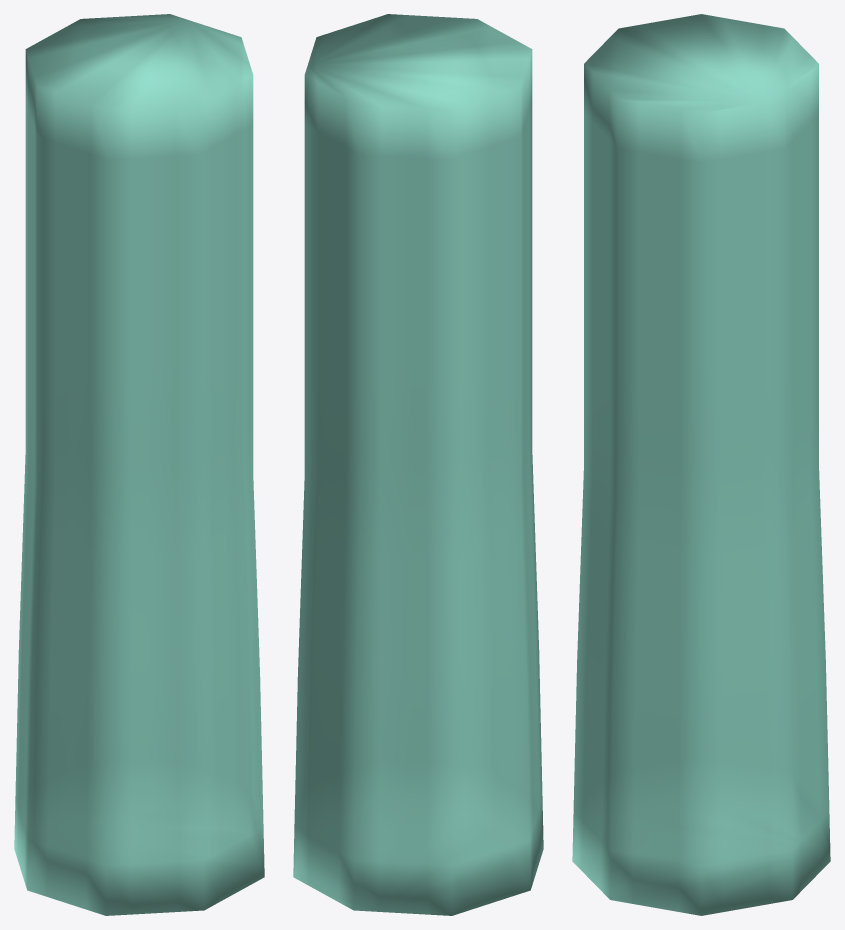
File: Geyser.fbx
3 views of the same model, side by side, from view 1: azimuth 30°, elevation 25°; view 2: azimuth 150°, elevation 25°; view 3: azimuth 270°, elevation 25° (orthographic).
Visible parts, largest first — view 1: Geyser; view 2: Geyser; view 3: Geyser.
Boxes of the visible parts, <box> form: Geyser: <box>14,14,264,915</box>; Geyser: <box>293,14,543,915</box>; Geyser: <box>572,14,830,915</box>.
Size of the model in its own units: 176 by 600 by 176.
